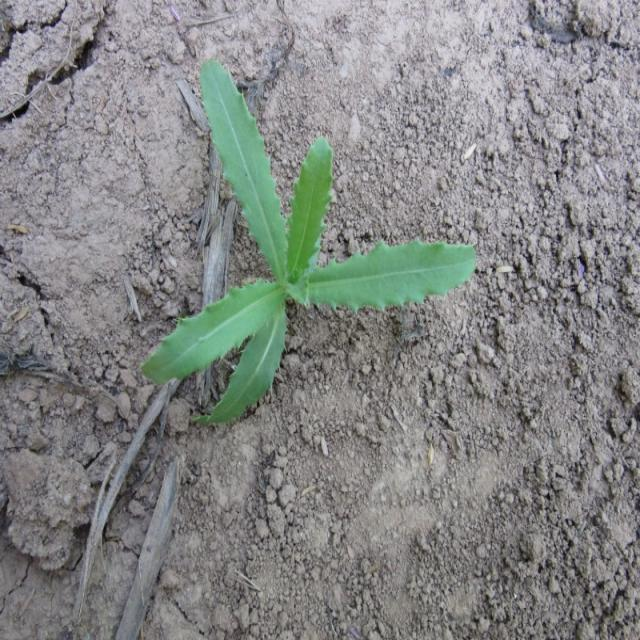cs: (144, 59, 479, 428)
